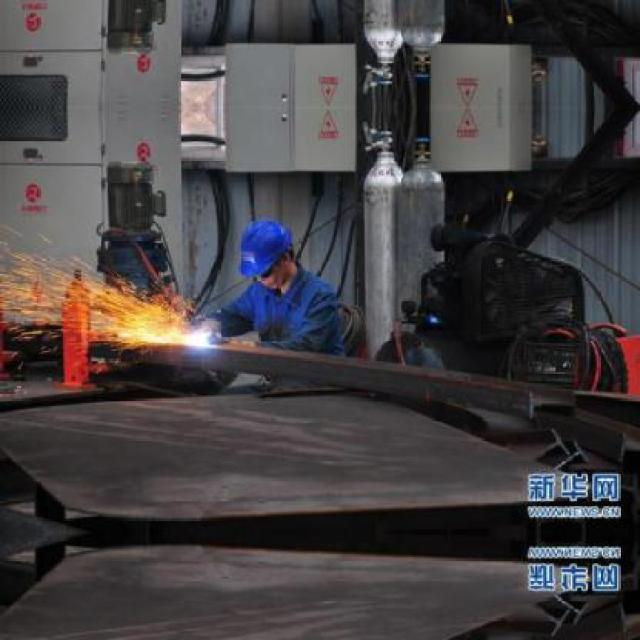helmet: (237, 214, 301, 294)
